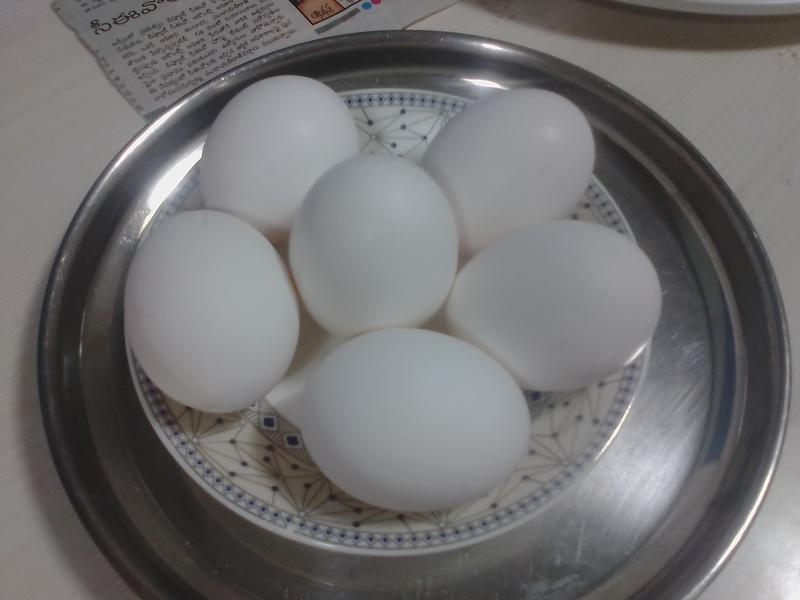egg: (303, 328, 526, 512)
